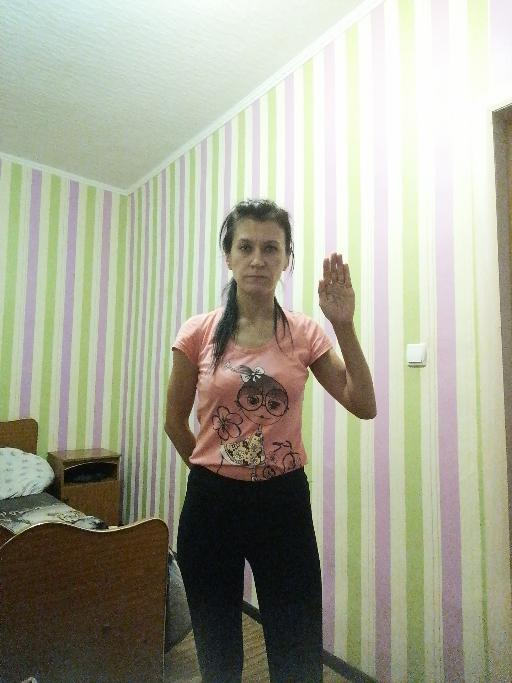stop: (316, 250, 355, 326)
